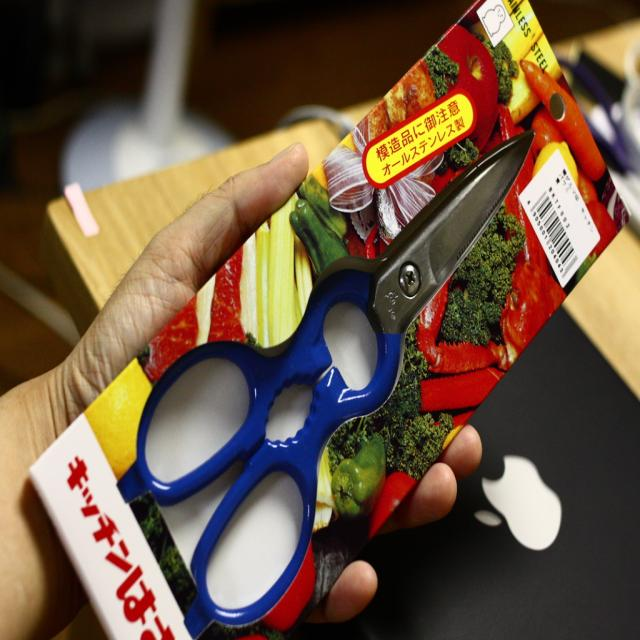scissors: (115, 128, 536, 638)
